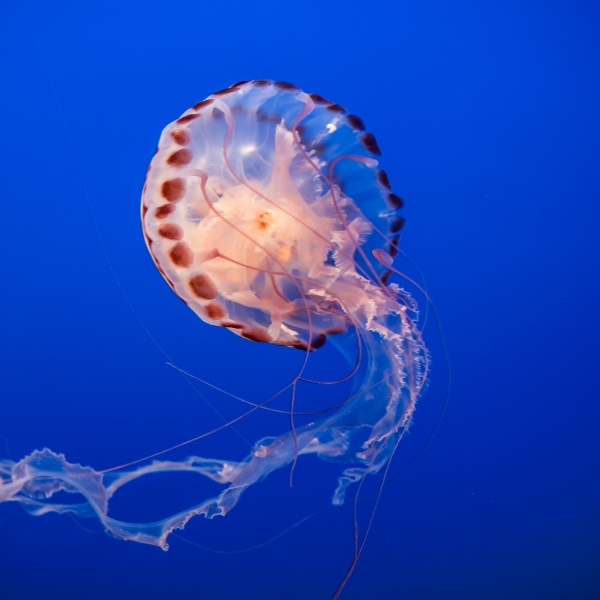Jellyfish: (0, 74, 452, 599)
